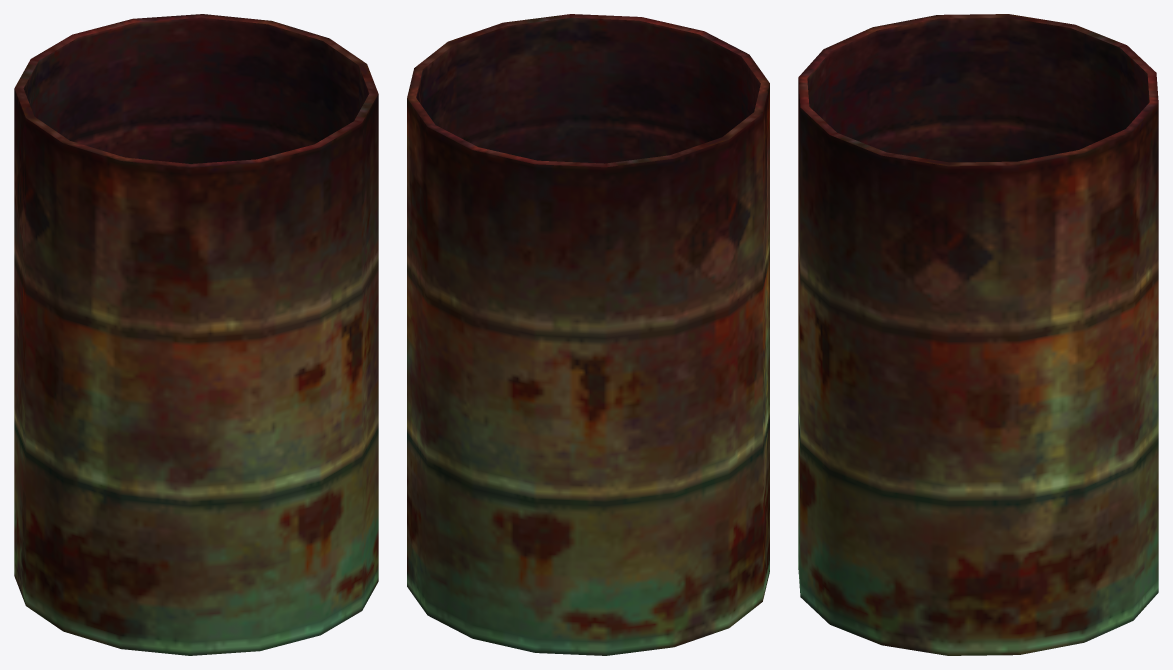
The model's file is od_single_open_upright_brown.fbx.
The picture shows the model from 3 angles, left to right: view 1: azimuth 30°, elevation 25°; view 2: azimuth 150°, elevation 25°; view 3: azimuth 270°, elevation 25°; orthographic projection.
Visible parts, largest first — view 1: mesh_0; view 2: mesh_0; view 3: mesh_0.
Part boxes in pixels (x1,y1,x2,y2): mesh_0: (14,14,378,655); mesh_0: (407,14,769,655); mesh_0: (798,14,1158,655).
Size of the model in its own units: 58.87 by 88.26 by 58.87.
1 material, 1 textured.
